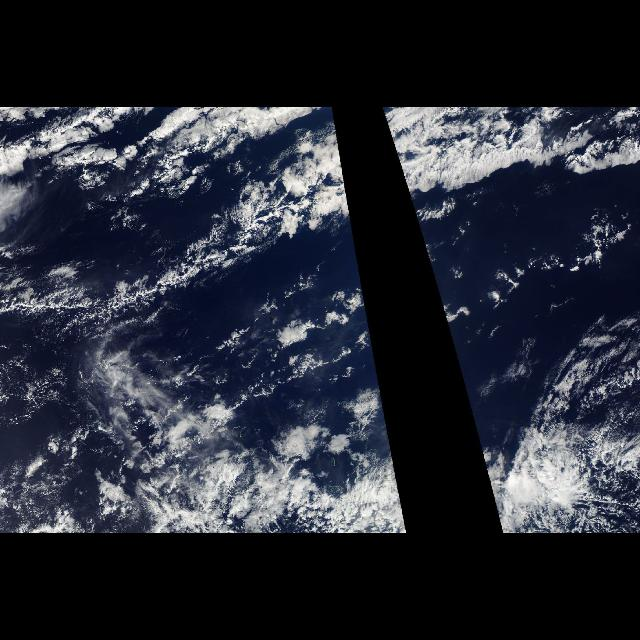Fish: (0, 110, 360, 338), (383, 110, 604, 204)
